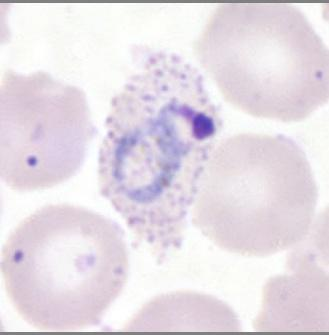Infected: (95, 41, 225, 267)
Uninfected: (0, 203, 134, 335), (192, 135, 318, 261), (199, 0, 329, 116), (0, 69, 94, 189)
